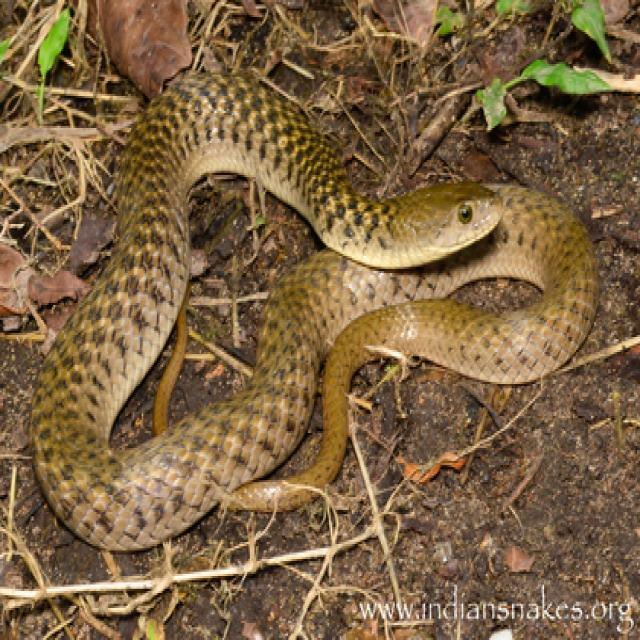Snake: (28, 64, 602, 556)
